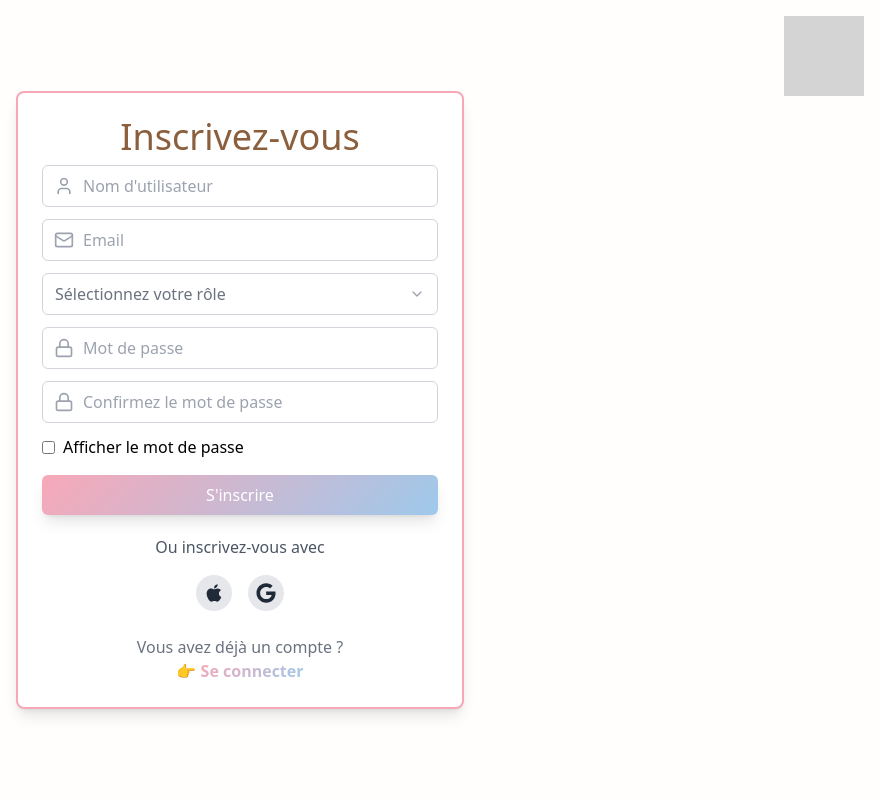
it: Register Component › displays validation errors when form is submitted empty
Step 1. Click the button "S'inscrire" → (240, 495), box [42,475,438,515]
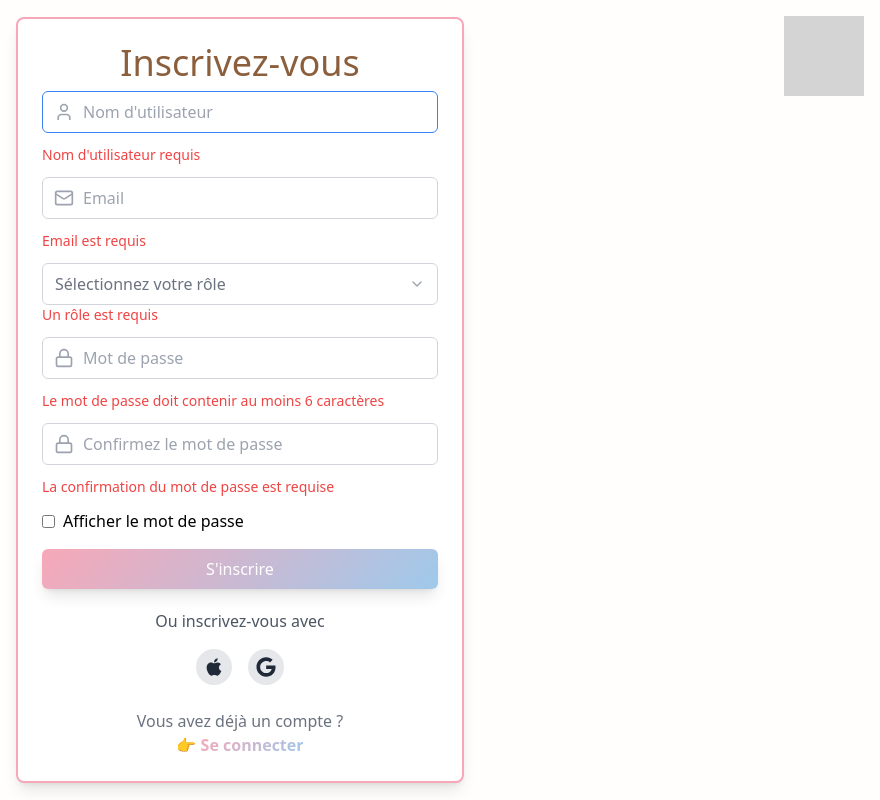
Check: the text "Nom d'utilisateur requis" is shown, box [42,145,200,164]
Check: the text "Email est requis" is shown, box [42,231,146,250]
Check: the text "Le mot de passe doit contenir au moins 6 caractères" is shown, box [42,391,438,411]
